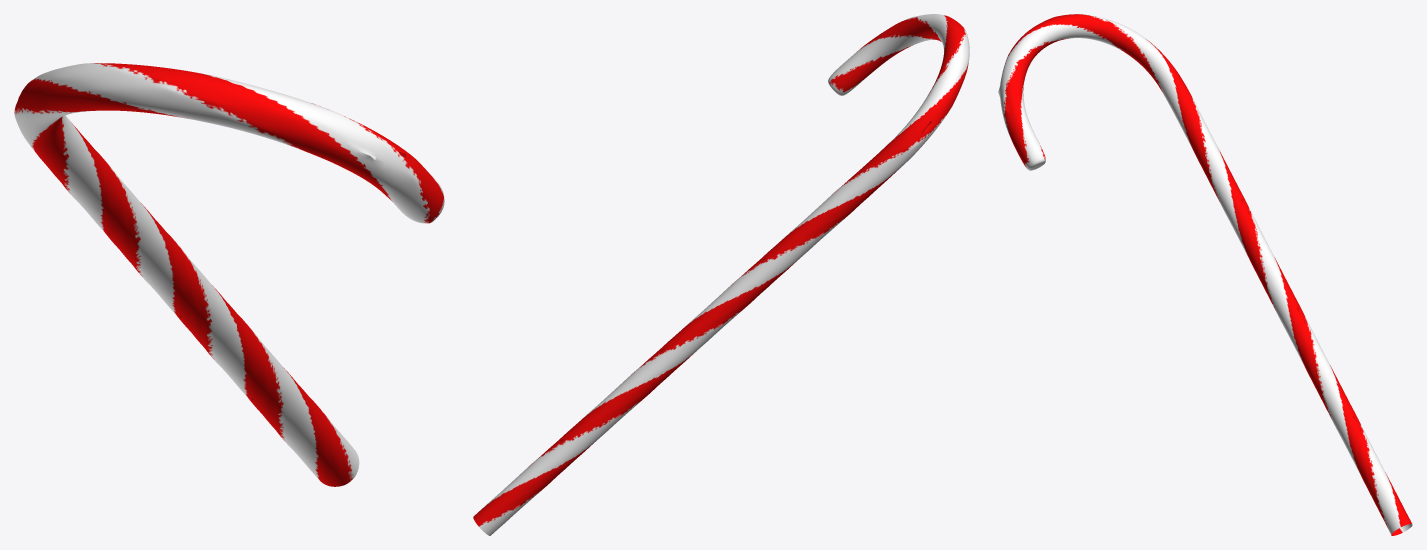
Rendered from DL3D_Christmas Cane.fbx.
3 renders of one model, left to right at view 1: azimuth 30°, elevation 25°; view 2: azimuth 150°, elevation 25°; view 3: azimuth 270°, elevation 25°, orthographic. The views are drawn at different scales.
Visible parts, largest first — view 1: mesh_id7, mesh_id8; view 2: mesh_id7, mesh_id8; view 3: mesh_id7, mesh_id8.
Boxes of the visible parts, x1=… form: mesh_id7: x1=14, y1=63, x2=443, y2=486; mesh_id8: x1=14, y1=63, x2=444, y2=479; mesh_id7: x1=473, y1=15, x2=968, y2=535; mesh_id8: x1=478, y1=14, x2=969, y2=535; mesh_id7: x1=1004, y1=14, x2=1411, y2=535; mesh_id8: x1=998, y1=14, x2=1412, y2=534.
Bounding box in the file's own units: 1610 × 2043 × 1950.
Materials: 1 (1 with a texture image).
